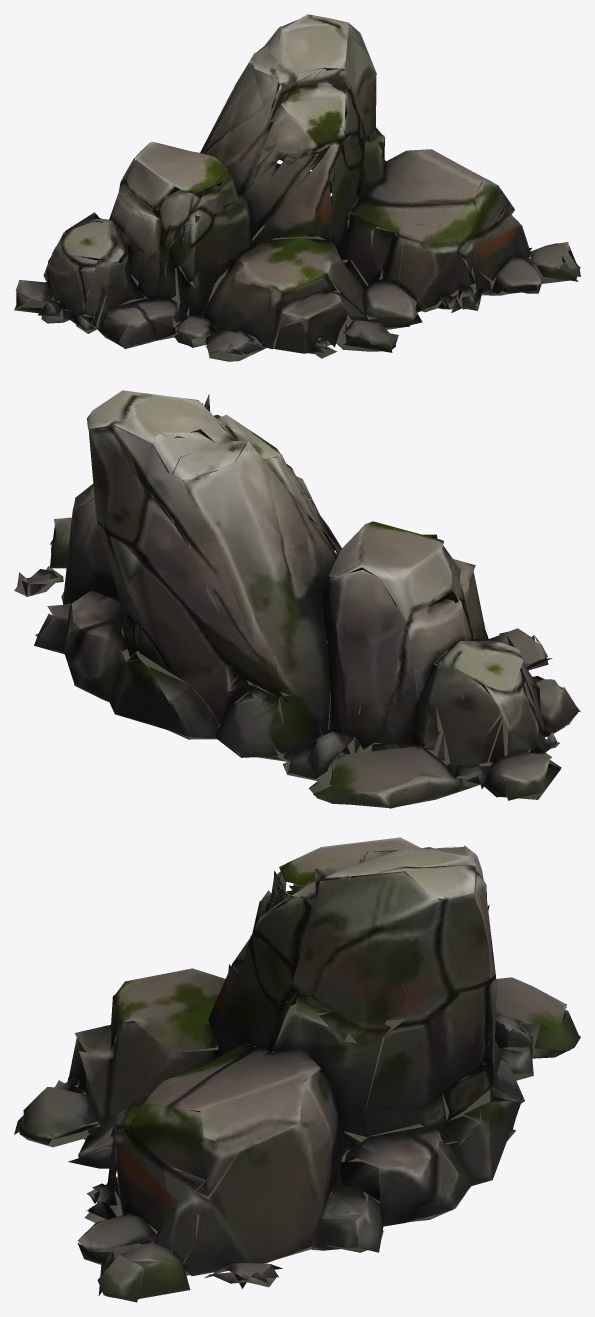
The model's file is formation-c.glb.
3 views of the same model, one above another, from view 1: azimuth 30°, elevation 25°; view 2: azimuth 150°, elevation 25°; view 3: azimuth 270°, elevation 25° (orthographic). The views are drawn at different scales.
Visible parts, largest first — view 1: Mesh_0; view 2: Mesh_0; view 3: Mesh_0.
Boxes of the visible parts, box(x1,y1,x2,y2) form: Mesh_0: box(14, 14, 580, 361); Mesh_0: box(14, 390, 580, 808); Mesh_0: box(14, 837, 580, 1302).
Size of the model in its own units: 3 by 1.35 by 2.07.
Materials: 1 (1 with a texture image).
